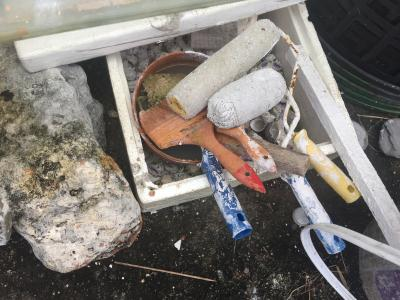bowl: (132, 47, 230, 169)
styrofoam: (106, 1, 350, 213)
